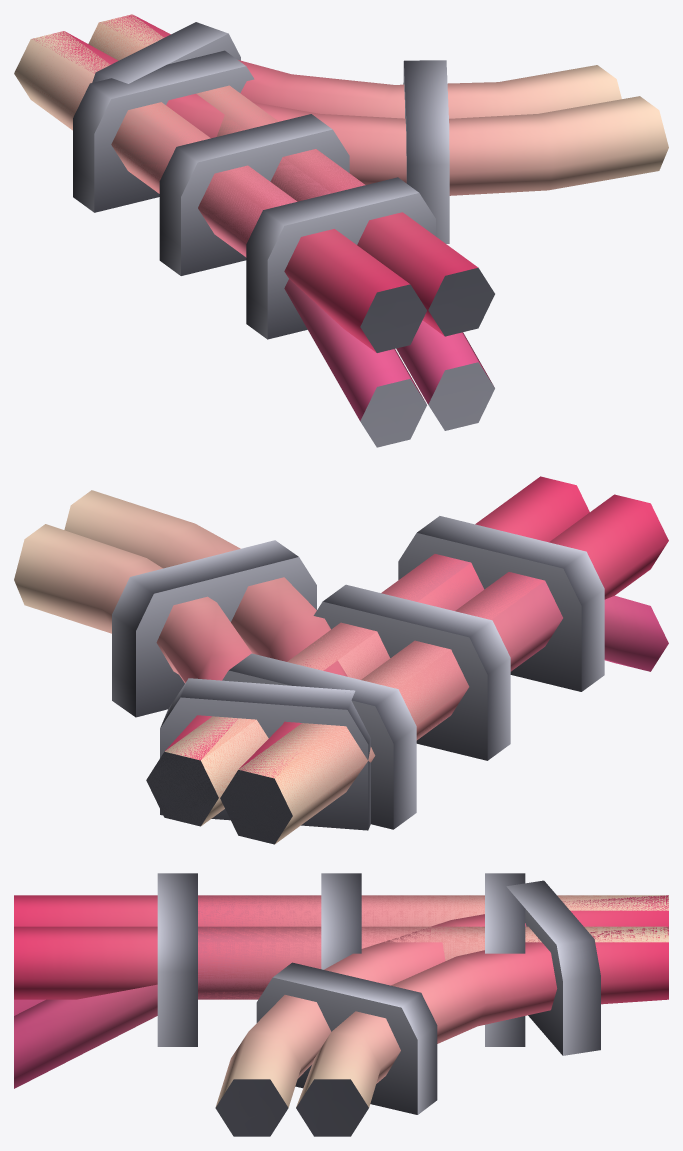
File: Tubes.fbx
3 views of the same model, one above another, from view 1: azimuth 30°, elevation 25°; view 2: azimuth 150°, elevation 25°; view 3: azimuth 270°, elevation 25° (orthographic). The views are drawn at different scales.
Parts seen in each view (by area): view 1: Tubes_180, Tubes_90, Tubes_end; view 2: Tubes_180, Tubes_90, Tubes_end; view 3: Tubes_90, Tubes_180, Tubes_end.
Boxes of the visible parts, left/top/right/bottom form: Tubes_180: left=14, top=14, right=494, bottom=352; Tubes_90: left=32, top=14, right=668, bottom=243; Tubes_end: left=16, top=15, right=494, bottom=447; Tubes_180: left=146, top=476, right=668, bottom=844; Tubes_90: left=14, top=490, right=370, bottom=843; Tubes_end: left=173, top=554, right=668, bottom=820; Tubes_90: left=215, top=880, right=668, bottom=1136; Tubes_180: left=14, top=873, right=668, bottom=1046; Tubes_end: left=14, top=873, right=668, bottom=1088.
Bounding box in the file's own units: 28.37 × 10.69 × 39.37.
Materials: 1 (1 with a texture image).
